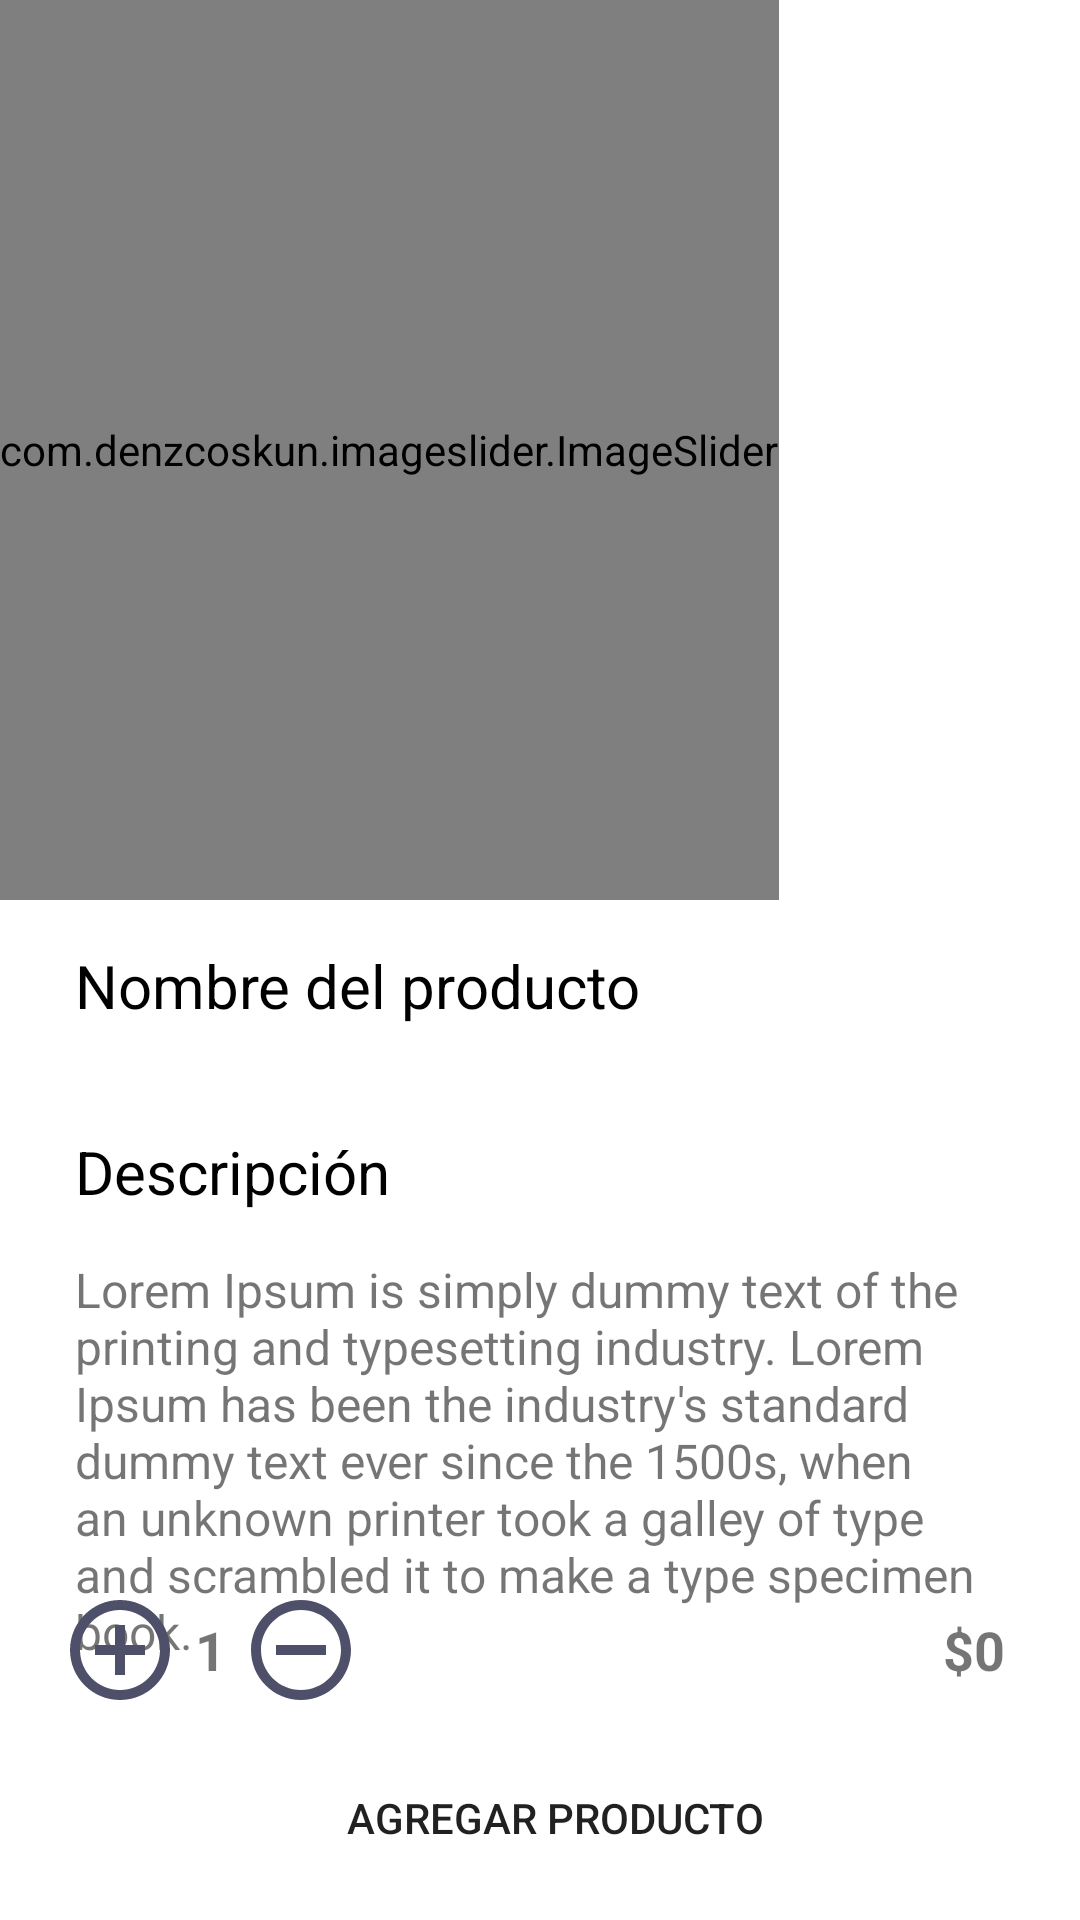

Icon bounding boxes for this 1080 x 1920 phone screenshot, format (left=x1, top=y1, right=x2, bottom=y2):
add: (left=70, top=1600, right=180, bottom=1700)
remove: (left=251, top=1600, right=351, bottom=1700)
